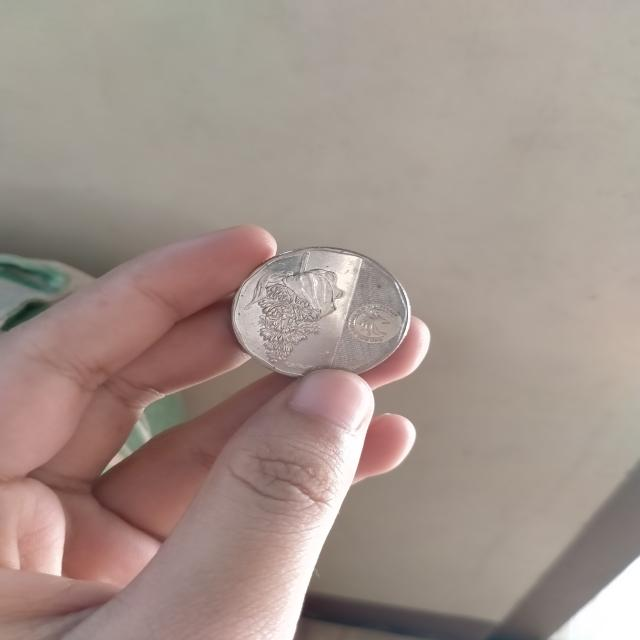10_New_Back: (243, 248, 347, 371)
